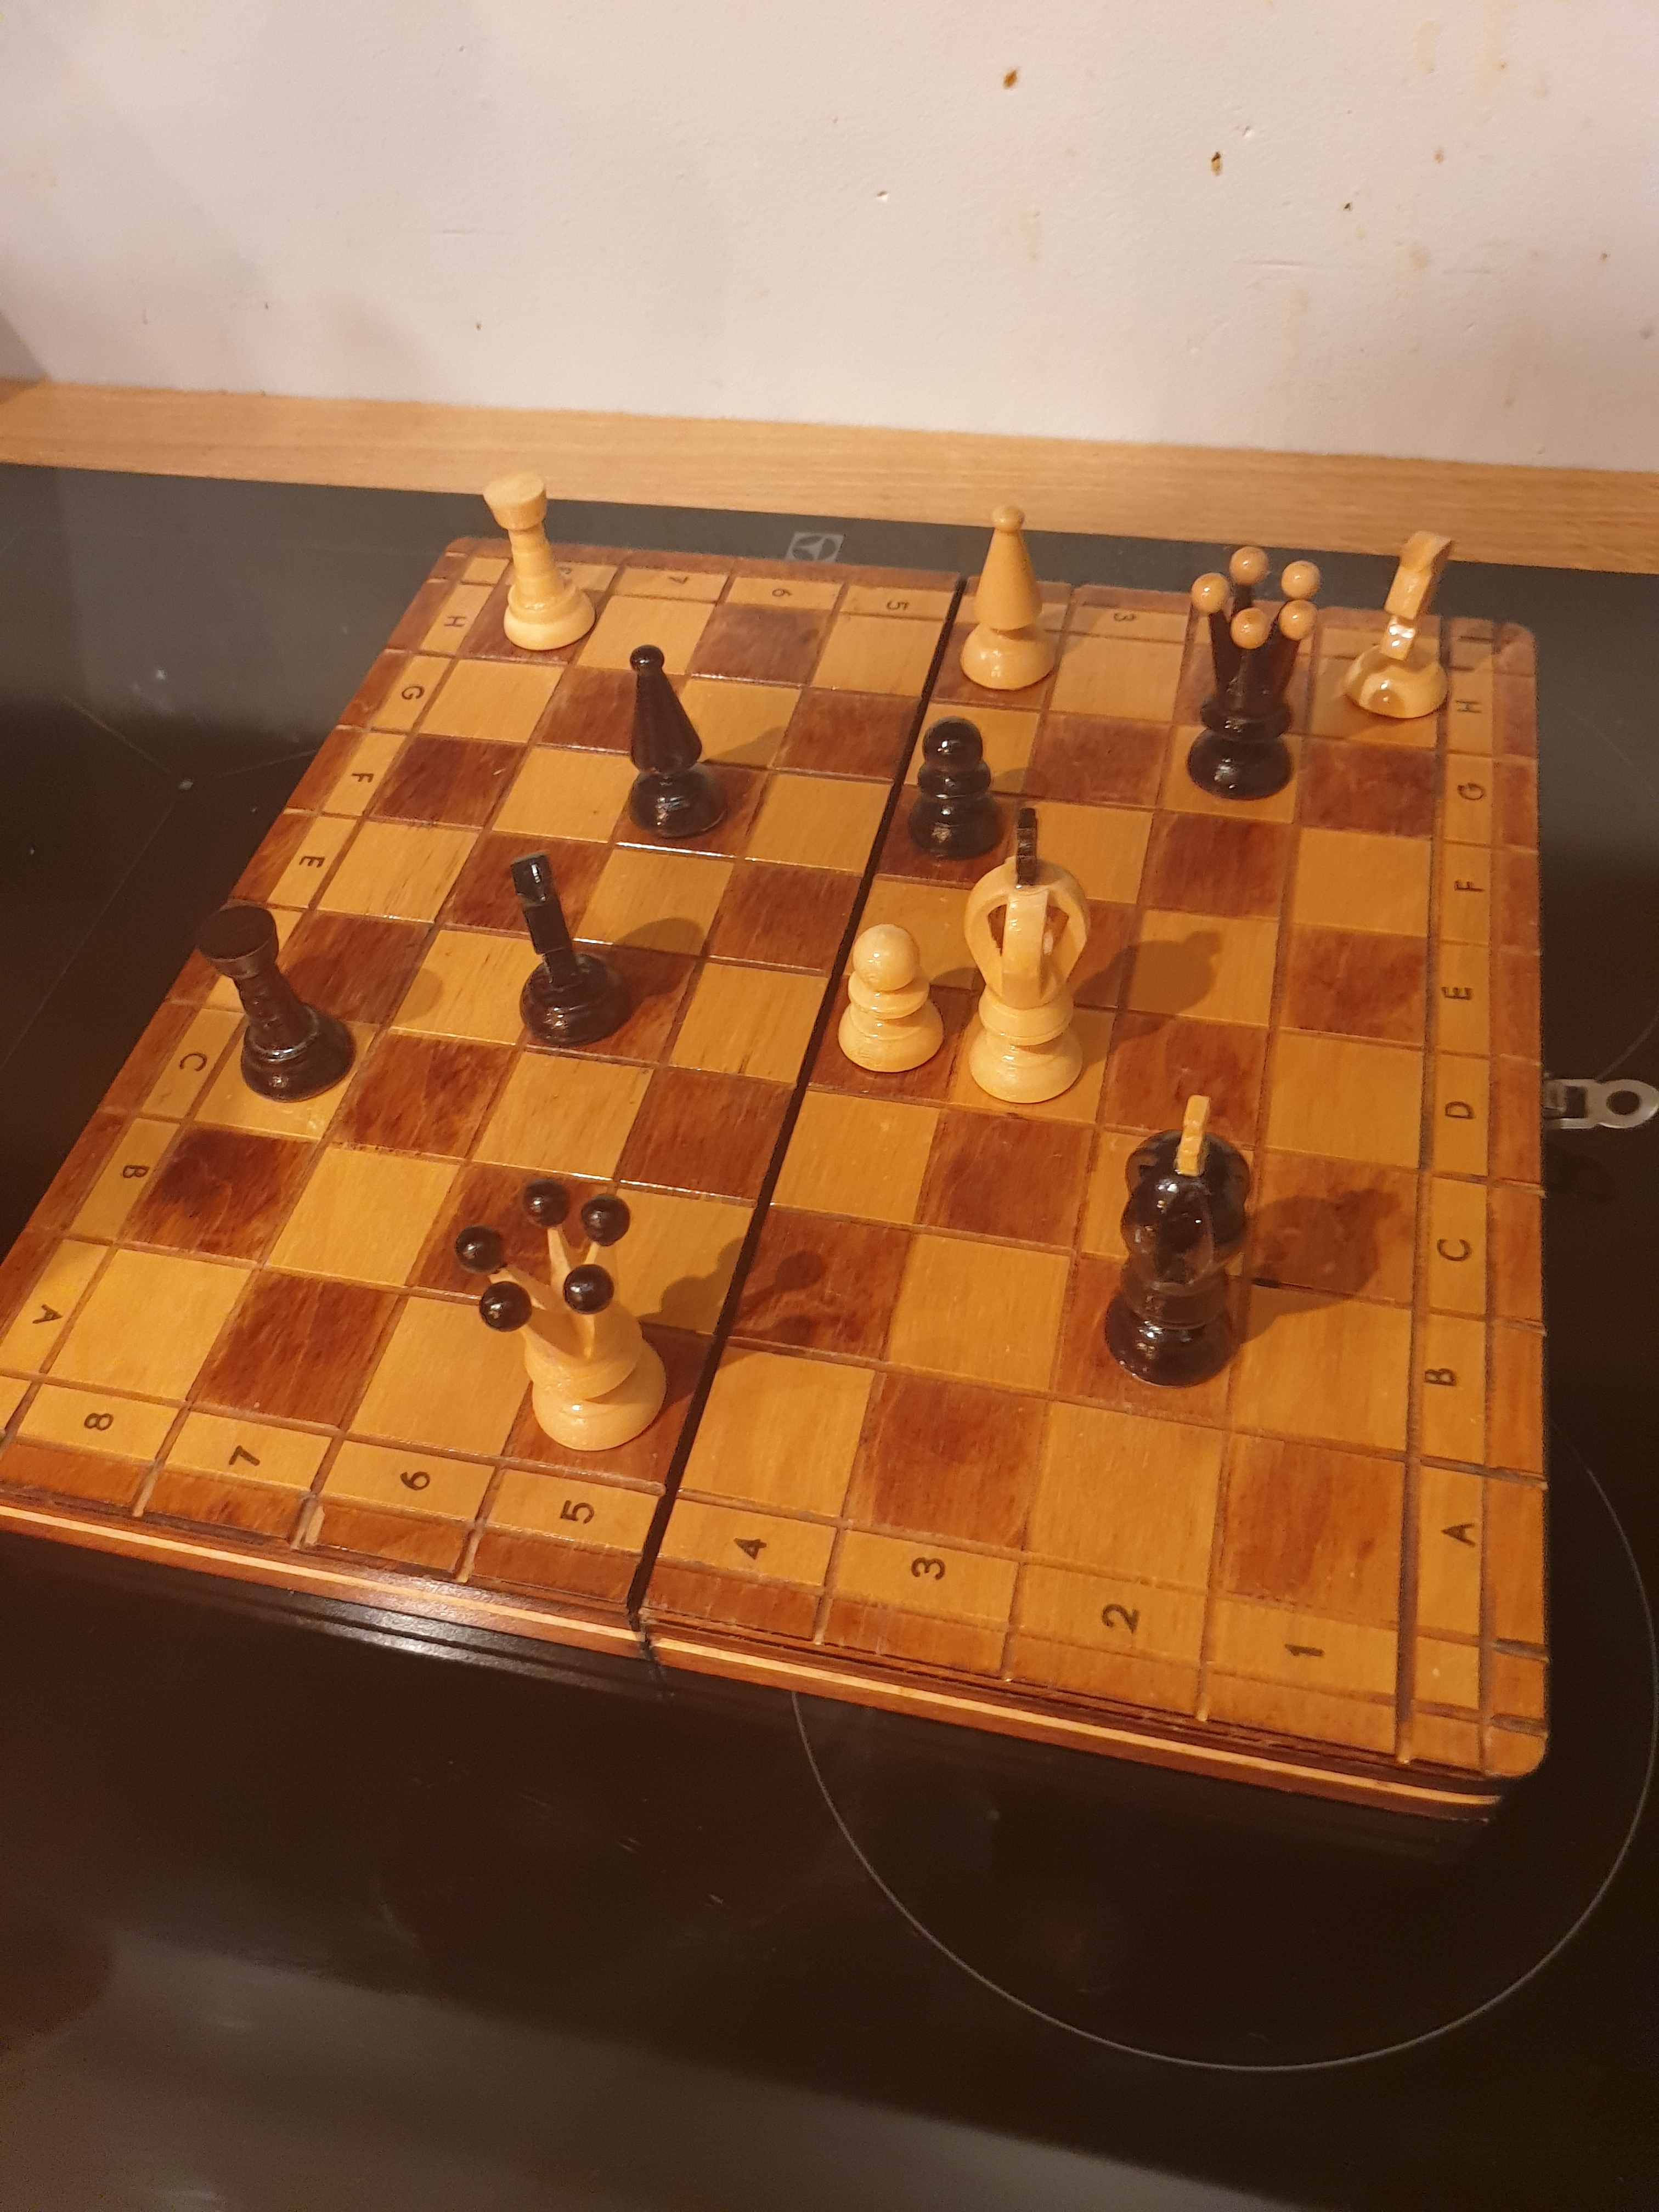bbishop: (606, 636, 737, 862)
bking: (1089, 1085, 1270, 1397)
bknight: (498, 836, 638, 1054)
bpawn: (901, 698, 1014, 874)
bqueen: (1173, 521, 1328, 808)
brook: (181, 890, 362, 1111)
wbishop: (948, 481, 1070, 712)
wking: (958, 805, 1094, 1109)
wknight: (1331, 519, 1480, 733)
wpawn: (826, 911, 955, 1097)
wqueen: (443, 1163, 678, 1461)
wrook: (472, 456, 615, 671)
